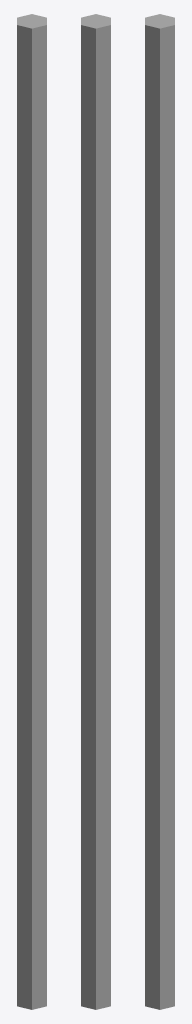
Rendered from SM_fence_104end.gltf.
The picture shows the model from 3 angles, left to right: view 1: azimuth 90°, elevation 25°; view 2: azimuth 210°, elevation 25°; view 3: azimuth 270°, elevation 25°; orthographic projection.
Parts seen in each view (by area): view 1: SM_fence_104end; view 2: SM_fence_104end; view 3: SM_fence_104end.
Boxes of the visible parts, x1=… form: SM_fence_104end: x1=17, y1=14, x2=46, y2=1009; SM_fence_104end: x1=81, y1=14, x2=110, y2=1009; SM_fence_104end: x1=145, y1=14, x2=174, y2=1009.
Bounding box in the file's own units: 0.08 × 2.5 × 0.0693.
1 material, 1 textured.
